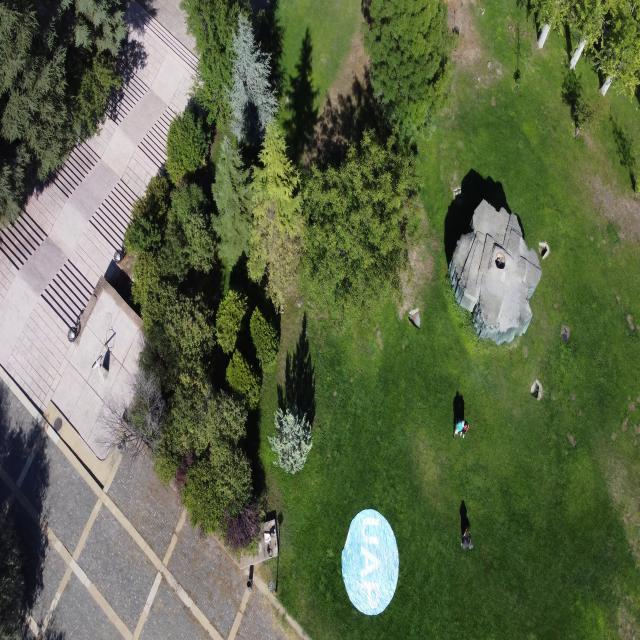vehicle: (342, 508, 399, 616), (462, 532, 473, 550), (452, 421, 464, 437), (461, 422, 468, 437)
